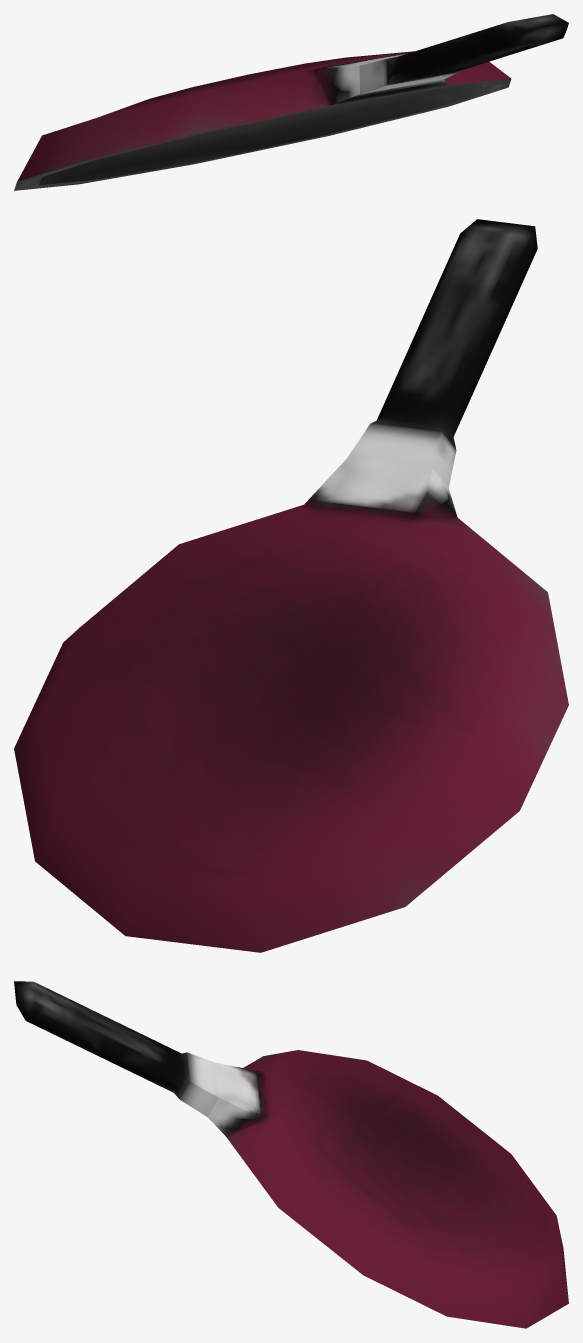
The model's file is C_FryingPanOil.fbx.
3 renders of one model, top to bottom at view 1: azimuth 30°, elevation 25°; view 2: azimuth 150°, elevation 25°; view 3: azimuth 270°, elevation 25°, orthographic. The views are drawn at different scales.
Parts seen in each view (by area): view 1: StirFry.002; view 2: StirFry.002; view 3: StirFry.002.
Boxes of the visible parts, x1,y1,x2,y2 form: StirFry.002: [14, 14, 568, 190]; StirFry.002: [14, 219, 568, 952]; StirFry.002: [14, 981, 568, 1328].
Bounding box in the file's own units: 41.75 × 34.66 × 55.59.
